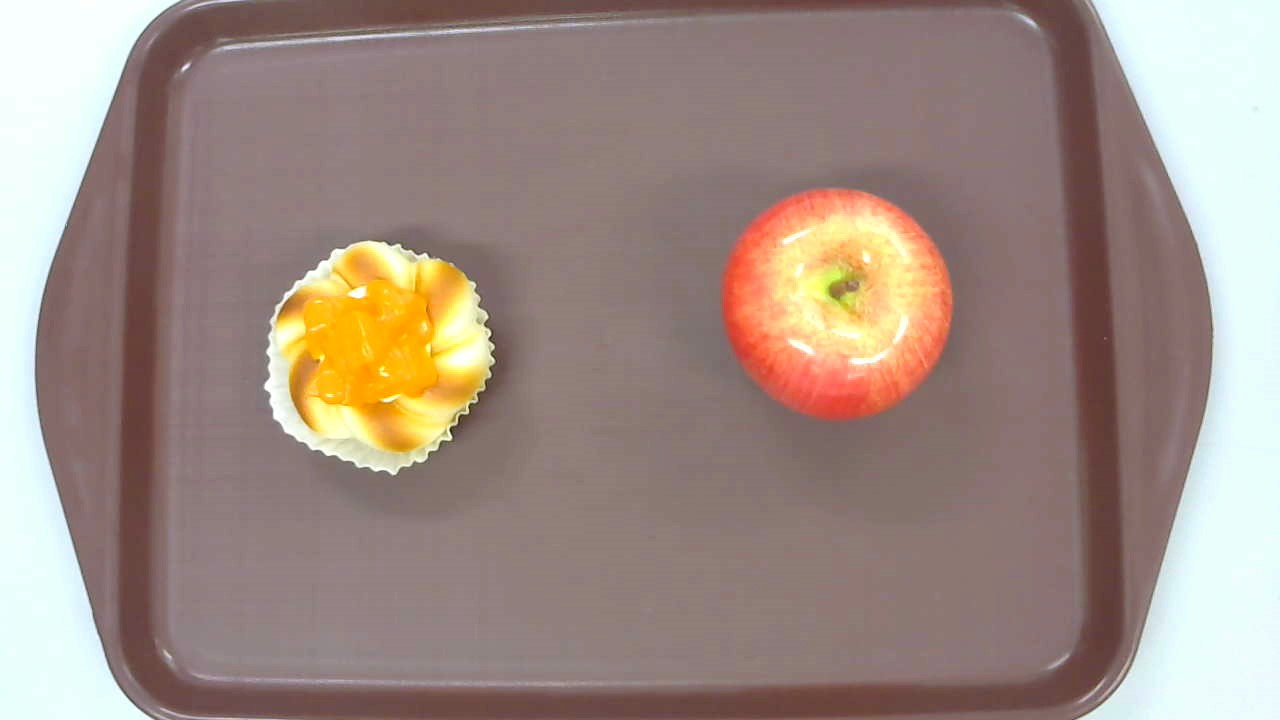mango tart: (263, 239, 496, 476)
red apple: (720, 187, 954, 423)
